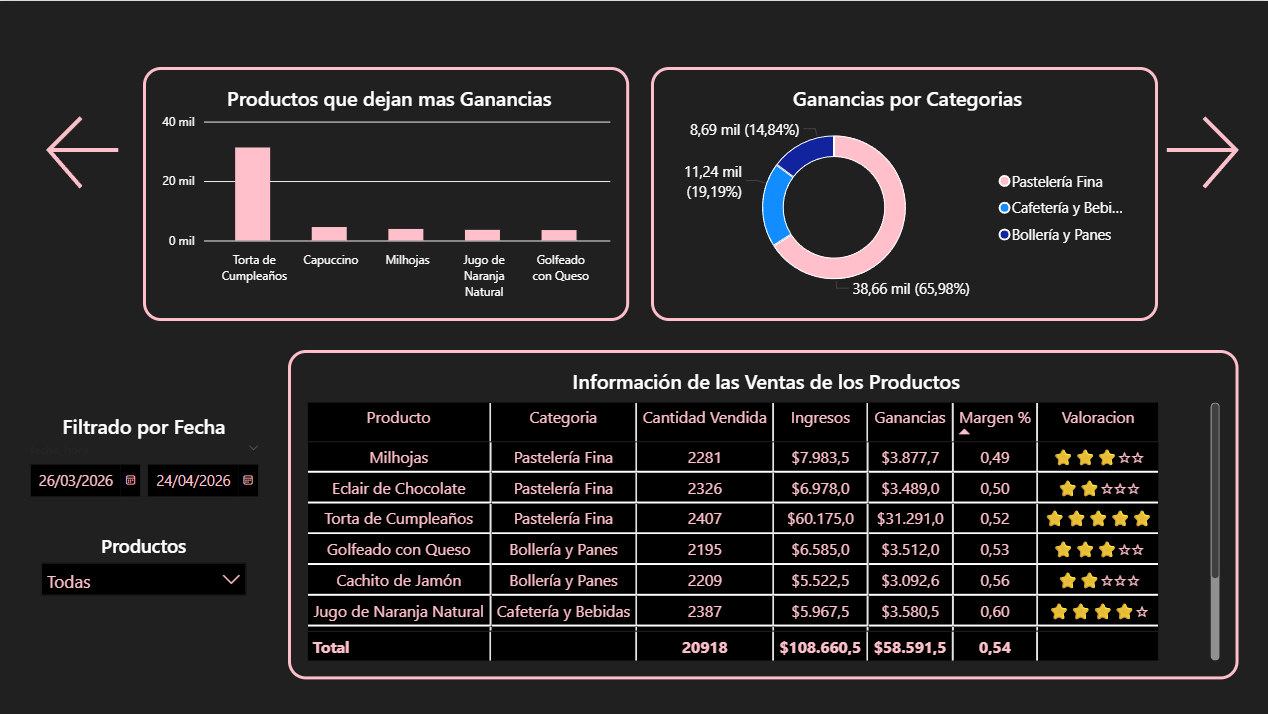

The dashboard page shown, as its layout file describes it:
{"tool":"powerbi","page":{"name":"Pagina 2","canvas":[1280,720],"ordinal":1},"visuals":[{"type":"clusteredColumnChart","title":"Productos que dejan mas Ganancias","fields":{"Category":["public productos.nombre"],"Y":["Medidas.Ganancias"]},"box":[145.4,66.4,490.2,255.9],"z":0},{"type":"tableEx","title":"Información de las Ventas de los Productos","fields":{"Values":["public productos.nombre","public categorias.nombre","public detalle_ventas.cantidad","Medidas.Ingresos_Reales","Medidas.Ganancias","Medidas.Margen %","public productos.Valoracion Producto"]},"box":[291.3,352.2,957.8,332.2],"z":1000},{"type":"slicer","title":"Productos","fields":{"Values":["public productos.nombre"]},"box":[37.3,536.2,216.7,80.6],"z":2000},{"type":"slicer","title":"Filtrado por Fecha","fields":{"Values":["public ventas.fecha_hora"]},"box":[23.2,414.2,245.9,108.9],"z":3000},{"type":"actionButton","box":[1151,85.7,122,134],"z":4000},{"type":"actionButton","box":[24.2,85.7,122,134],"z":5000},{"type":"donutChart","title":"Ganancias por Categorias","fields":{"Category":["public categorias.nombre"],"Y":["Medidas.Ganancias"]},"box":[657.2,66.4,510.8,255.9],"z":6000}]}

Visuals, with their boxes in screenshot pixels (x1, y1, x2, y2), scaled from the page's 1280x720 canvas onto the 1268x714 screenshot:
"Productos que dejan mas Ganancias" clusteredColumnChart: Rect(144, 66, 630, 320)
"Información de las Ventas de los Productos" tableEx: Rect(289, 349, 1237, 679)
"Productos" slicer: Rect(37, 532, 252, 612)
"Filtrado por Fecha" slicer: Rect(23, 411, 267, 519)
actionButton: Rect(1140, 85, 1261, 218)
actionButton: Rect(24, 85, 145, 218)
"Ganancias por Categorias" donutChart: Rect(651, 66, 1157, 320)
